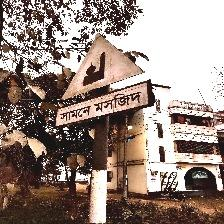Mosque in front: (53, 33, 154, 131)
